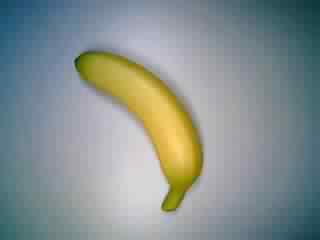banana: (70, 46, 208, 214)
